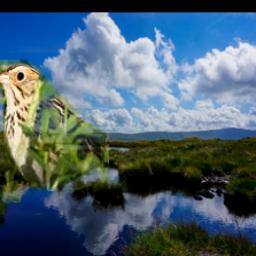Sparrow: (0, 61, 110, 204)
